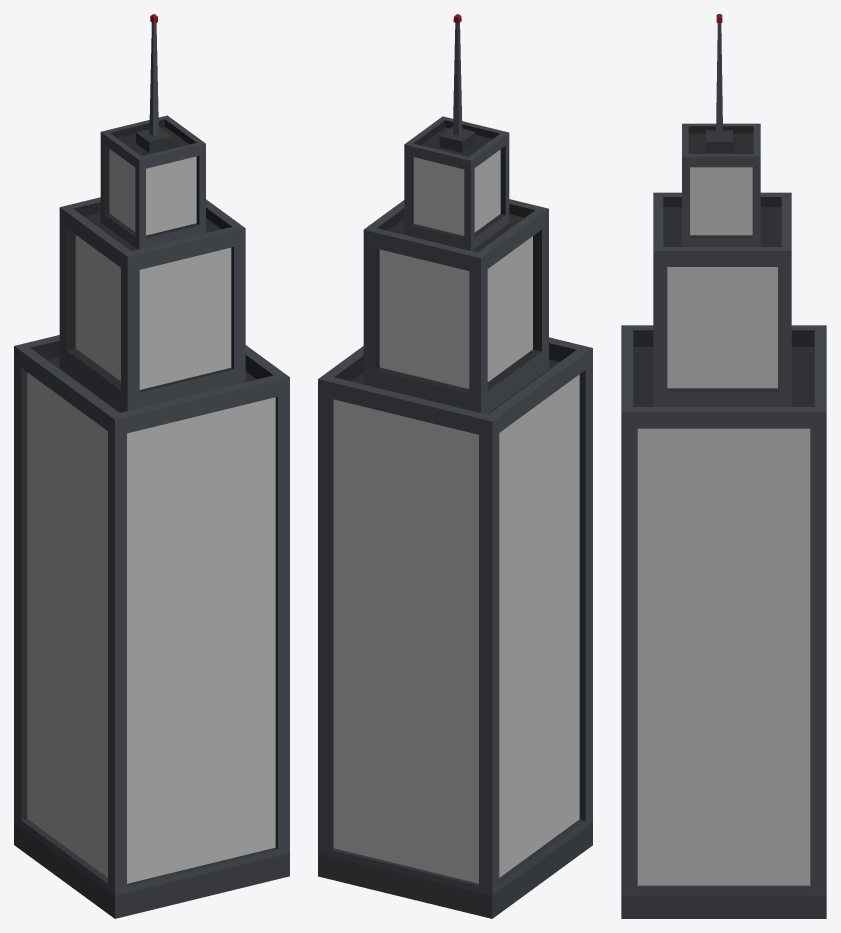
File: SM_Bld_Highrise_02.fbx
3 renders of one model, left to right at view 1: azimuth 30°, elevation 25°; view 2: azimuth 150°, elevation 25°; view 3: azimuth 270°, elevation 25°, orthographic.
Parts seen in each view (by area): view 1: SM_Bld_Highrise_02; view 2: SM_Bld_Highrise_02; view 3: SM_Bld_Highrise_02.
Boxes of the visible parts, x1=… form: SM_Bld_Highrise_02: x1=14, y1=14, x2=289, y2=918; SM_Bld_Highrise_02: x1=318, y1=14, x2=592, y2=918; SM_Bld_Highrise_02: x1=621, y1=14, x2=826, y2=918.
Size of the model in its own units: 50.8 by 235 by 50.78.
